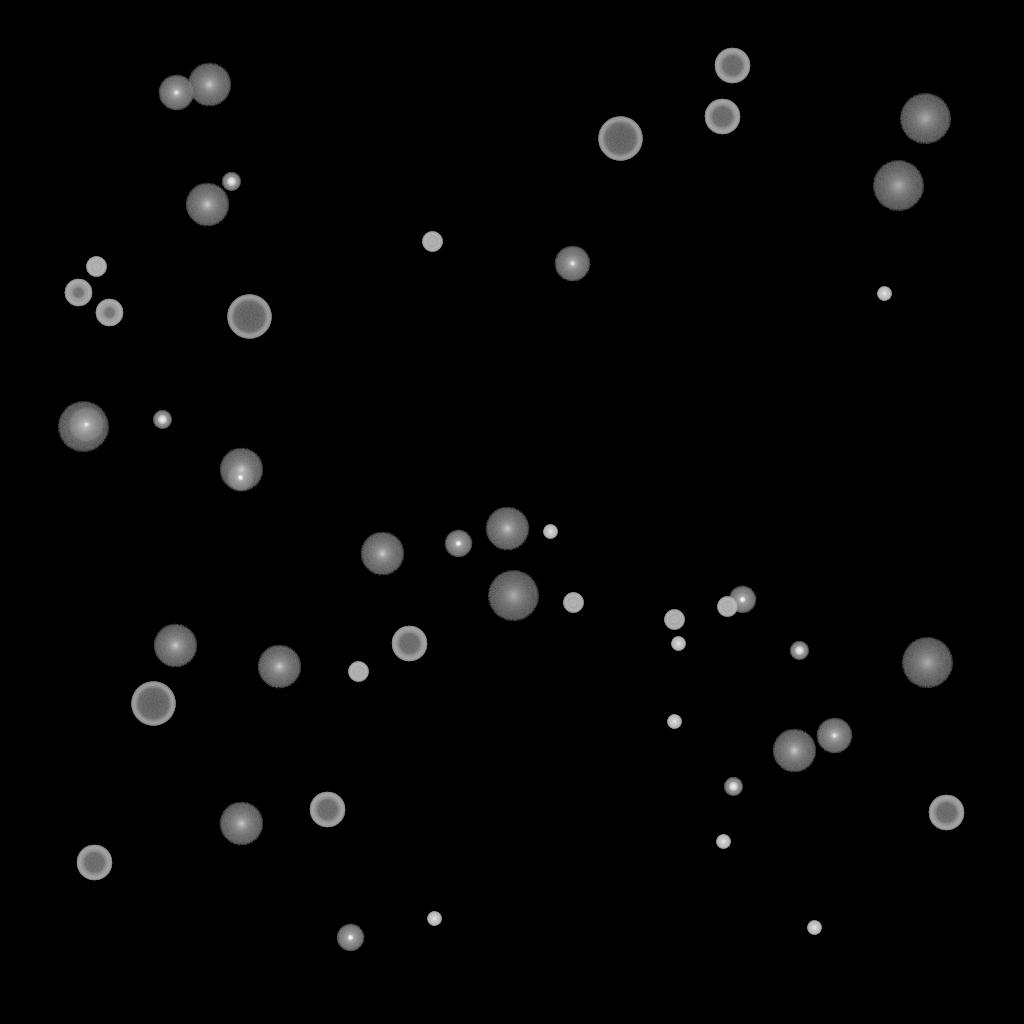depth:-10: (728, 586, 756, 614), (336, 924, 364, 952), (444, 530, 472, 558), (226, 464, 254, 492)
depth:-20: (222, 173, 240, 191), (790, 642, 808, 660), (724, 778, 742, 796), (153, 411, 171, 429)
depth:-30: (671, 637, 685, 651), (807, 921, 821, 935), (543, 525, 557, 539), (716, 835, 730, 849), (427, 912, 441, 926), (667, 715, 681, 729), (877, 287, 891, 301)
depth:-40: (86, 257, 106, 277), (348, 662, 368, 682), (717, 597, 737, 617), (664, 610, 684, 630), (563, 593, 583, 613), (422, 232, 442, 252)
depth:-50: (95, 299, 123, 327), (64, 279, 92, 307)
depth:-60: (928, 795, 964, 831), (704, 99, 740, 135), (76, 845, 112, 881), (714, 48, 750, 84), (391, 626, 427, 662), (309, 792, 345, 828)
depth:-70: (227, 295, 271, 339), (131, 682, 175, 726), (598, 117, 642, 161)
depth:0: (68, 407, 104, 443), (554, 246, 590, 282), (158, 75, 194, 111), (816, 718, 852, 754)
depth:10: (187, 63, 231, 107), (153, 624, 197, 668), (772, 729, 816, 773), (485, 507, 529, 551), (185, 183, 229, 227), (219, 802, 263, 846), (257, 645, 301, 689), (360, 532, 404, 576), (219, 448, 263, 492)
depth:20: (57, 402, 109, 452), (872, 161, 924, 211), (487, 571, 539, 621), (899, 94, 951, 144), (901, 638, 953, 688)
